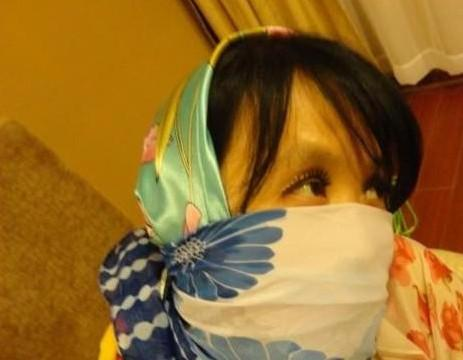OK: (217, 133, 422, 338)
